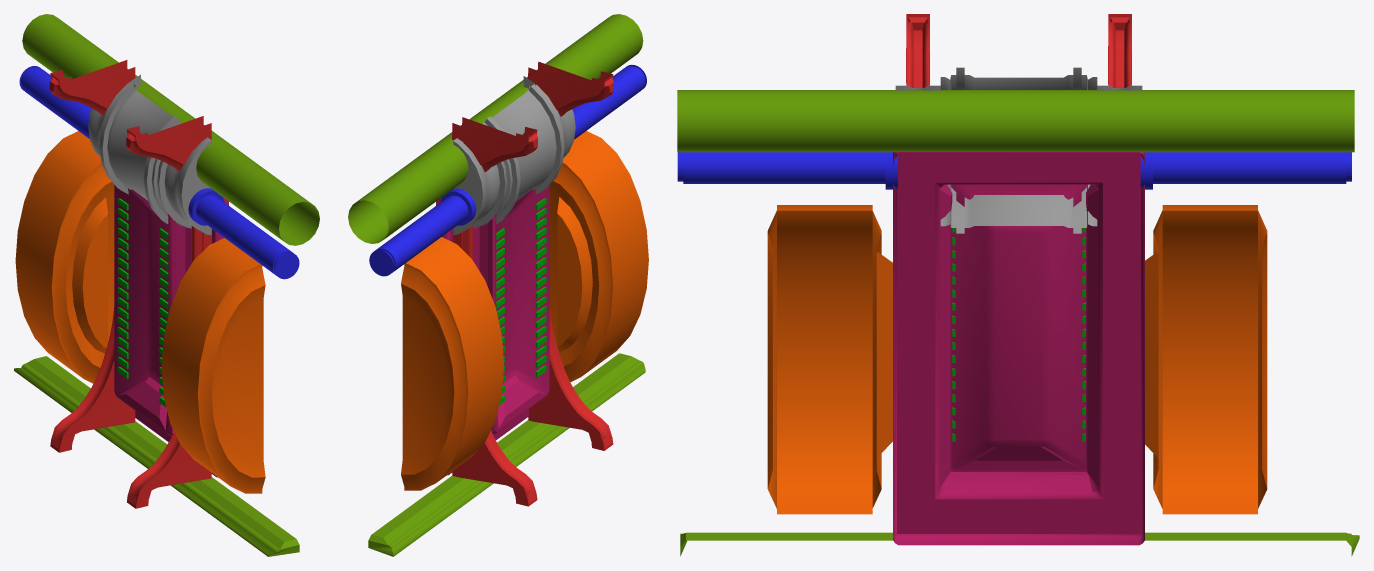
The model's file is Main Wall Machine.FBX.
3 renders of one model, left to right at view 1: azimuth 30°, elevation 25°; view 2: azimuth 150°, elevation 25°; view 3: azimuth 270°, elevation 25°, orthographic. The views are drawn at different scales.
Parts seen in each view (by area): view 1: Cylinder017, Cylinder011, Box013, Capsule002, Cylinder005, Box015, Box040, Box049, Cylinder009, Cylinder008; view 2: Cylinder011, Cylinder017, Box013, Capsule002, Cylinder005, Box015, Box049, Box040, Cylinder008, Cylinder009; view 3: Box013, Capsule002, Cylinder017, Cylinder011, Cylinder005, Cylinder009, Cylinder008, Box015, Box040, Box049.
Part boxes in pixels (x1=…): Cylinder017: x1=161, y1=238, x2=265, y2=493; Cylinder011: x1=15, y1=131, x2=114, y2=383; Box013: x1=114, y1=185, x2=228, y2=477; Capsule002: x1=22, y1=14, x2=319, y2=245; Cylinder005: x1=88, y1=74, x2=211, y2=235; Box015: x1=14, y1=356, x2=299, y2=556; Box040: x1=49, y1=60, x2=135, y2=452; Box049: x1=126, y1=116, x2=211, y2=508; Cylinder009: x1=188, y1=188, x2=299, y2=279; Cylinder008: x1=19, y1=66, x2=91, y2=138; Cylinder011: x1=401, y1=237, x2=503, y2=490; Cylinder017: x1=549, y1=131, x2=648, y2=382; Box013: x1=436, y1=185, x2=549, y2=475; Capsule002: x1=348, y1=14, x2=643, y2=243; Cylinder005: x1=453, y1=76, x2=575, y2=235; Box015: x1=368, y1=353, x2=645, y2=556; Box049: x1=528, y1=61, x2=613, y2=450; Box040: x1=452, y1=117, x2=537, y2=506; Cylinder008: x1=369, y1=188, x2=476, y2=276; Cylinder009: x1=572, y1=64, x2=646, y2=139; Box013: x1=893, y1=152, x2=1144, y2=545; Capsule002: x1=677, y1=90, x2=1354, y2=152; Cylinder017: x1=767, y1=205, x2=892, y2=514; Cylinder011: x1=1145, y1=205, x2=1267, y2=514; Cylinder005: x1=895, y1=67, x2=1142, y2=233; Cylinder009: x1=677, y1=152, x2=897, y2=189; Cylinder008: x1=1140, y1=152, x2=1351, y2=189; Box015: x1=680, y1=532, x2=1359, y2=556; Box040: x1=1108, y1=14, x2=1132, y2=485; Box049: x1=906, y1=14, x2=930, y2=492.
Bounding box in the file's own units: 27.76 × 98.14 × 123.
